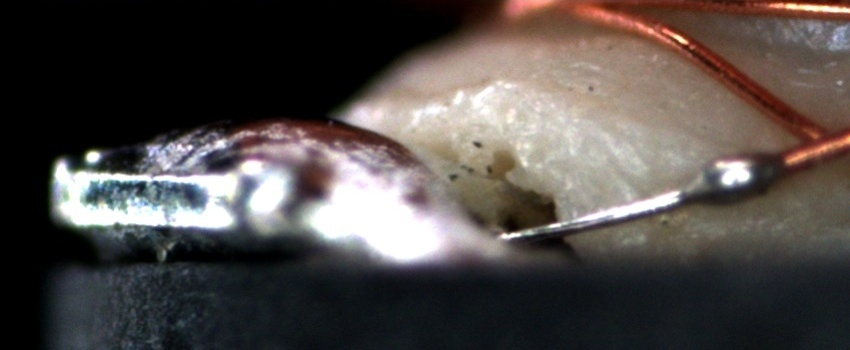TB: (675, 147, 783, 210)
TS: (499, 158, 788, 241)
TTCW: (494, 143, 821, 244)
